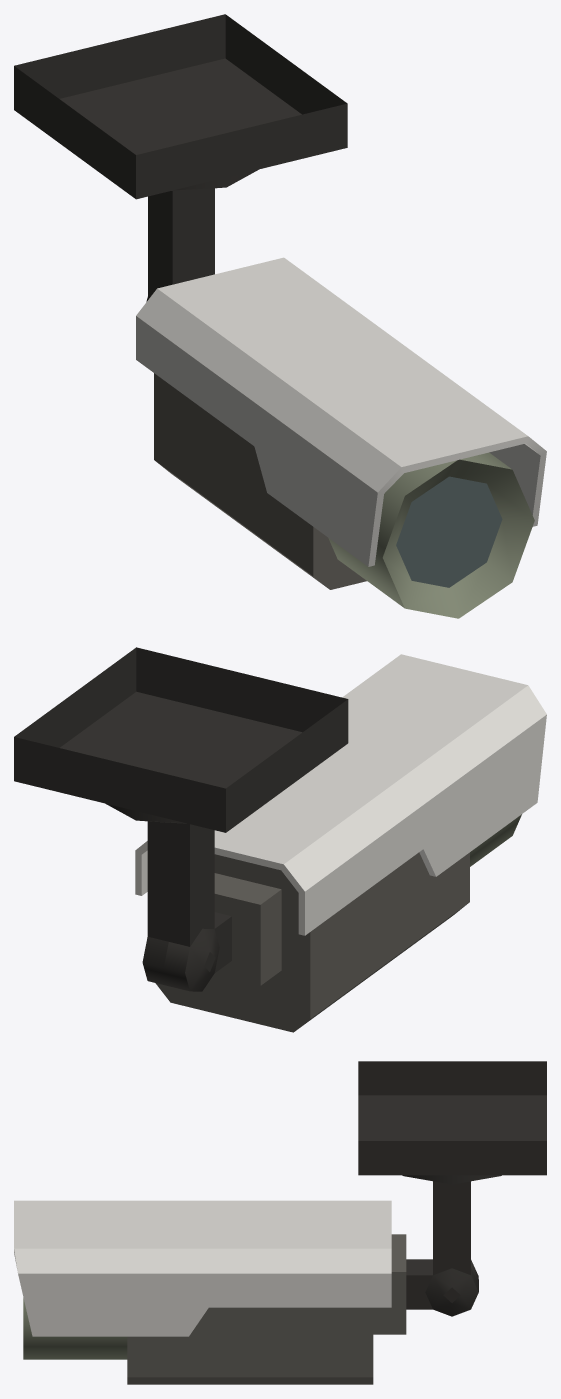
The model's file is Cctv_CeilingMounted.FBX.
The picture shows the model from 3 angles, top to bottom: view 1: azimuth 30°, elevation 25°; view 2: azimuth 150°, elevation 25°; view 3: azimuth 270°, elevation 25°; orthographic projection. The views are drawn at different scales.
Parts seen in each view (by area): view 1: Camera, Cctv_CeilingMounted, Servo; view 2: Camera, Cctv_CeilingMounted, Servo; view 3: Camera, Cctv_CeilingMounted, Servo.
Boxes of the visible parts, bbox=[...] form: Camera: bbox=[136, 257, 546, 618]; Cctv_CeilingMounted: bbox=[14, 14, 347, 199]; Servo: bbox=[148, 169, 258, 295]; Camera: bbox=[135, 654, 546, 1032]; Cctv_CeilingMounted: bbox=[14, 647, 348, 832]; Servo: bbox=[106, 804, 214, 985]; Camera: bbox=[14, 1200, 478, 1384]; Cctv_CeilingMounted: bbox=[358, 1061, 546, 1175]; Servo: bbox=[402, 1175, 501, 1316].
Size of the model in its own units: 10 by 28.23 by 15.21.
